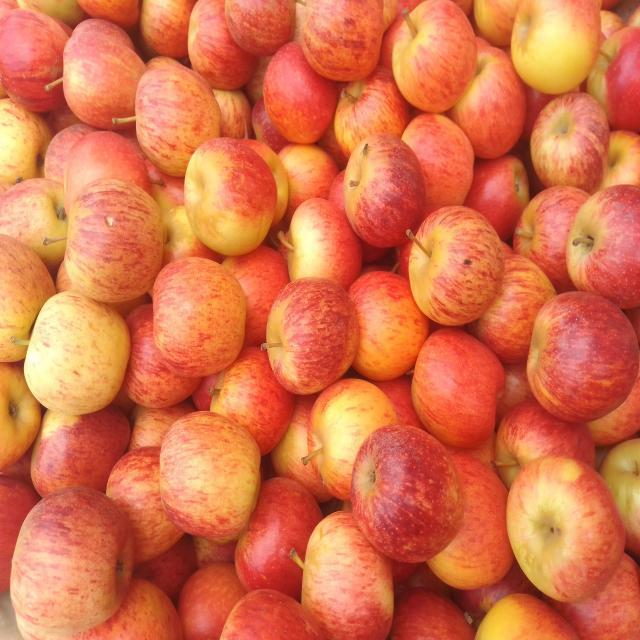Fresh Apple: (5, 488, 138, 640), (498, 453, 627, 607), (352, 418, 468, 557), (525, 288, 637, 422), (158, 410, 265, 540), (145, 252, 252, 382), (20, 295, 130, 415), (303, 505, 392, 640), (57, 180, 163, 292), (183, 133, 277, 257), (407, 207, 503, 328), (407, 325, 508, 440), (265, 273, 363, 390), (338, 130, 428, 250), (382, 0, 478, 110), (511, 0, 606, 96), (55, 18, 138, 127), (568, 184, 640, 306), (128, 60, 212, 152), (265, 38, 333, 142), (528, 93, 607, 182)
